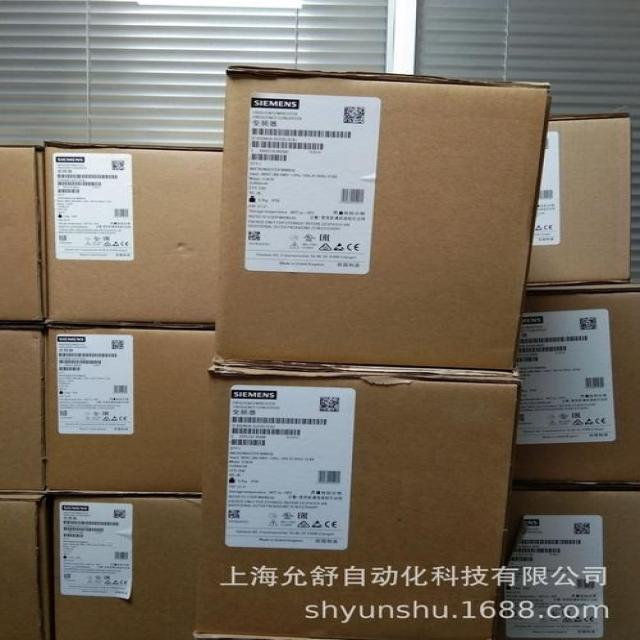box: (212, 64, 553, 371), (193, 361, 522, 640), (44, 138, 223, 329), (45, 325, 218, 493), (511, 283, 640, 485), (493, 487, 640, 640), (52, 495, 201, 639), (529, 111, 631, 286), (0, 142, 45, 323), (0, 323, 46, 493), (0, 491, 50, 640)
